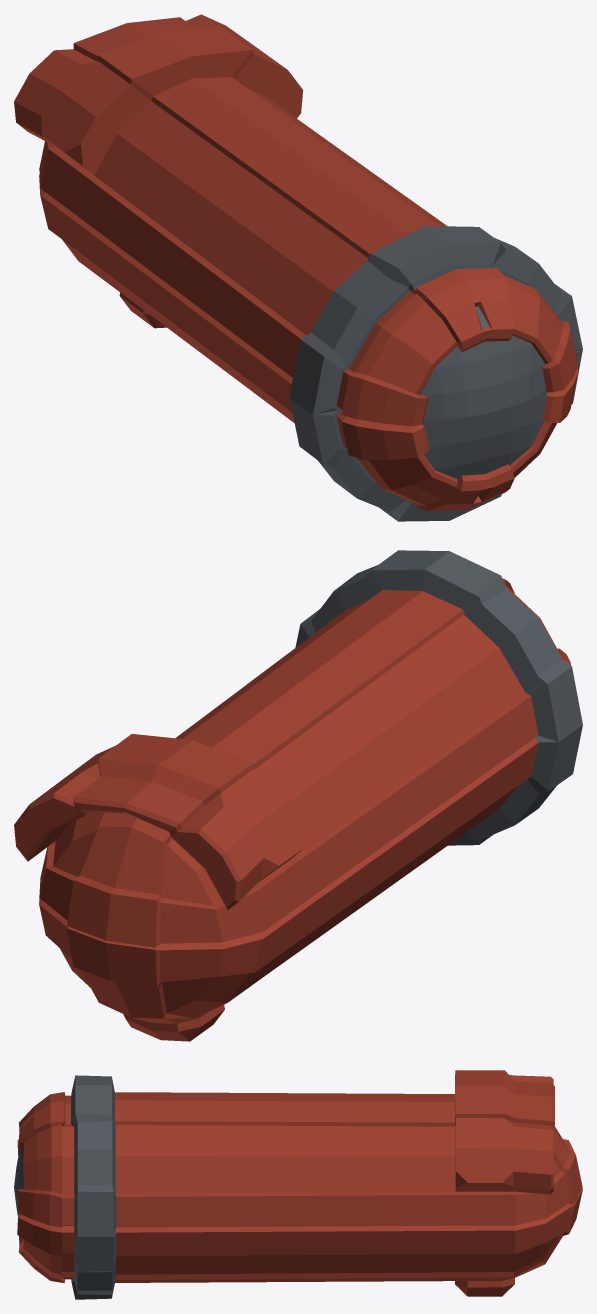
Rendered from Fighter_03_Base_Red.fbx.
3 renders of one model, top to bottom at view 1: azimuth 30°, elevation 25°; view 2: azimuth 150°, elevation 25°; view 3: azimuth 270°, elevation 25°, orthographic. The views are drawn at different scales.
Visible parts, largest first — view 1: Fighter_03_Base_Red; view 2: Fighter_03_Base_Red; view 3: Fighter_03_Base_Red.
Part boxes in pixels (box(x1,y1,x2,y2)): Fighter_03_Base_Red: box(14, 14, 582, 521); Fighter_03_Base_Red: box(14, 550, 582, 1041); Fighter_03_Base_Red: box(14, 1070, 582, 1299).
Bounding box in the file's own units: 311 × 306 × 769.
2 materials, 2 textured.
